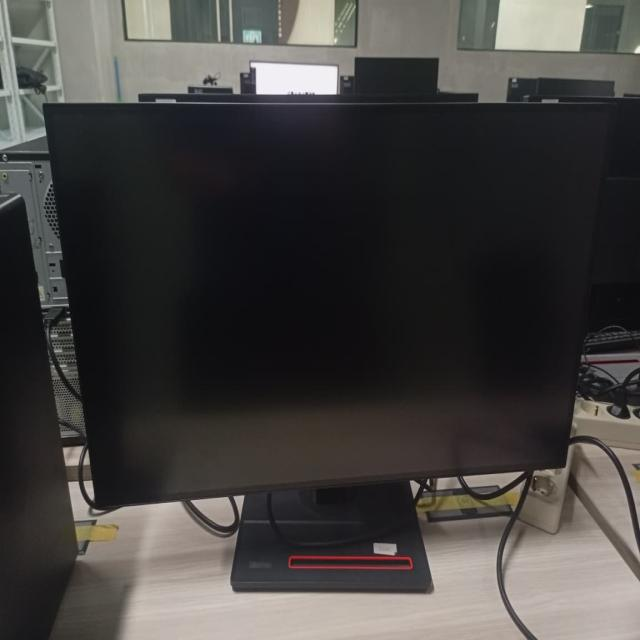monitor: (32, 89, 592, 514)
